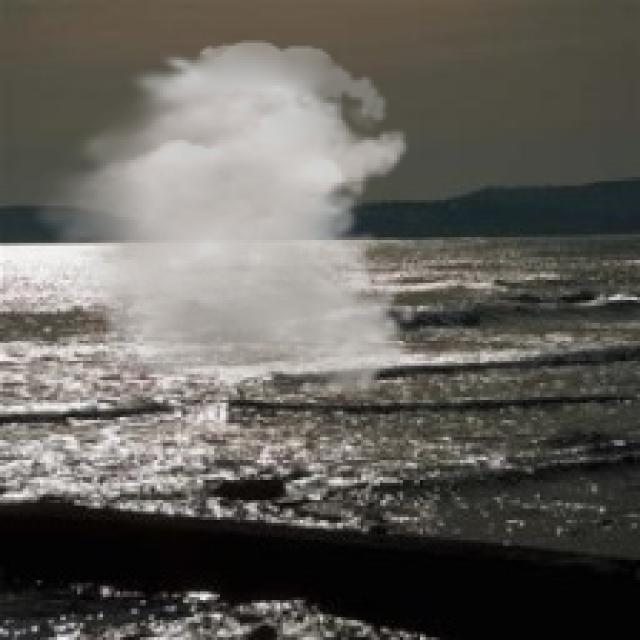Smoke: (26, 40, 423, 397)
